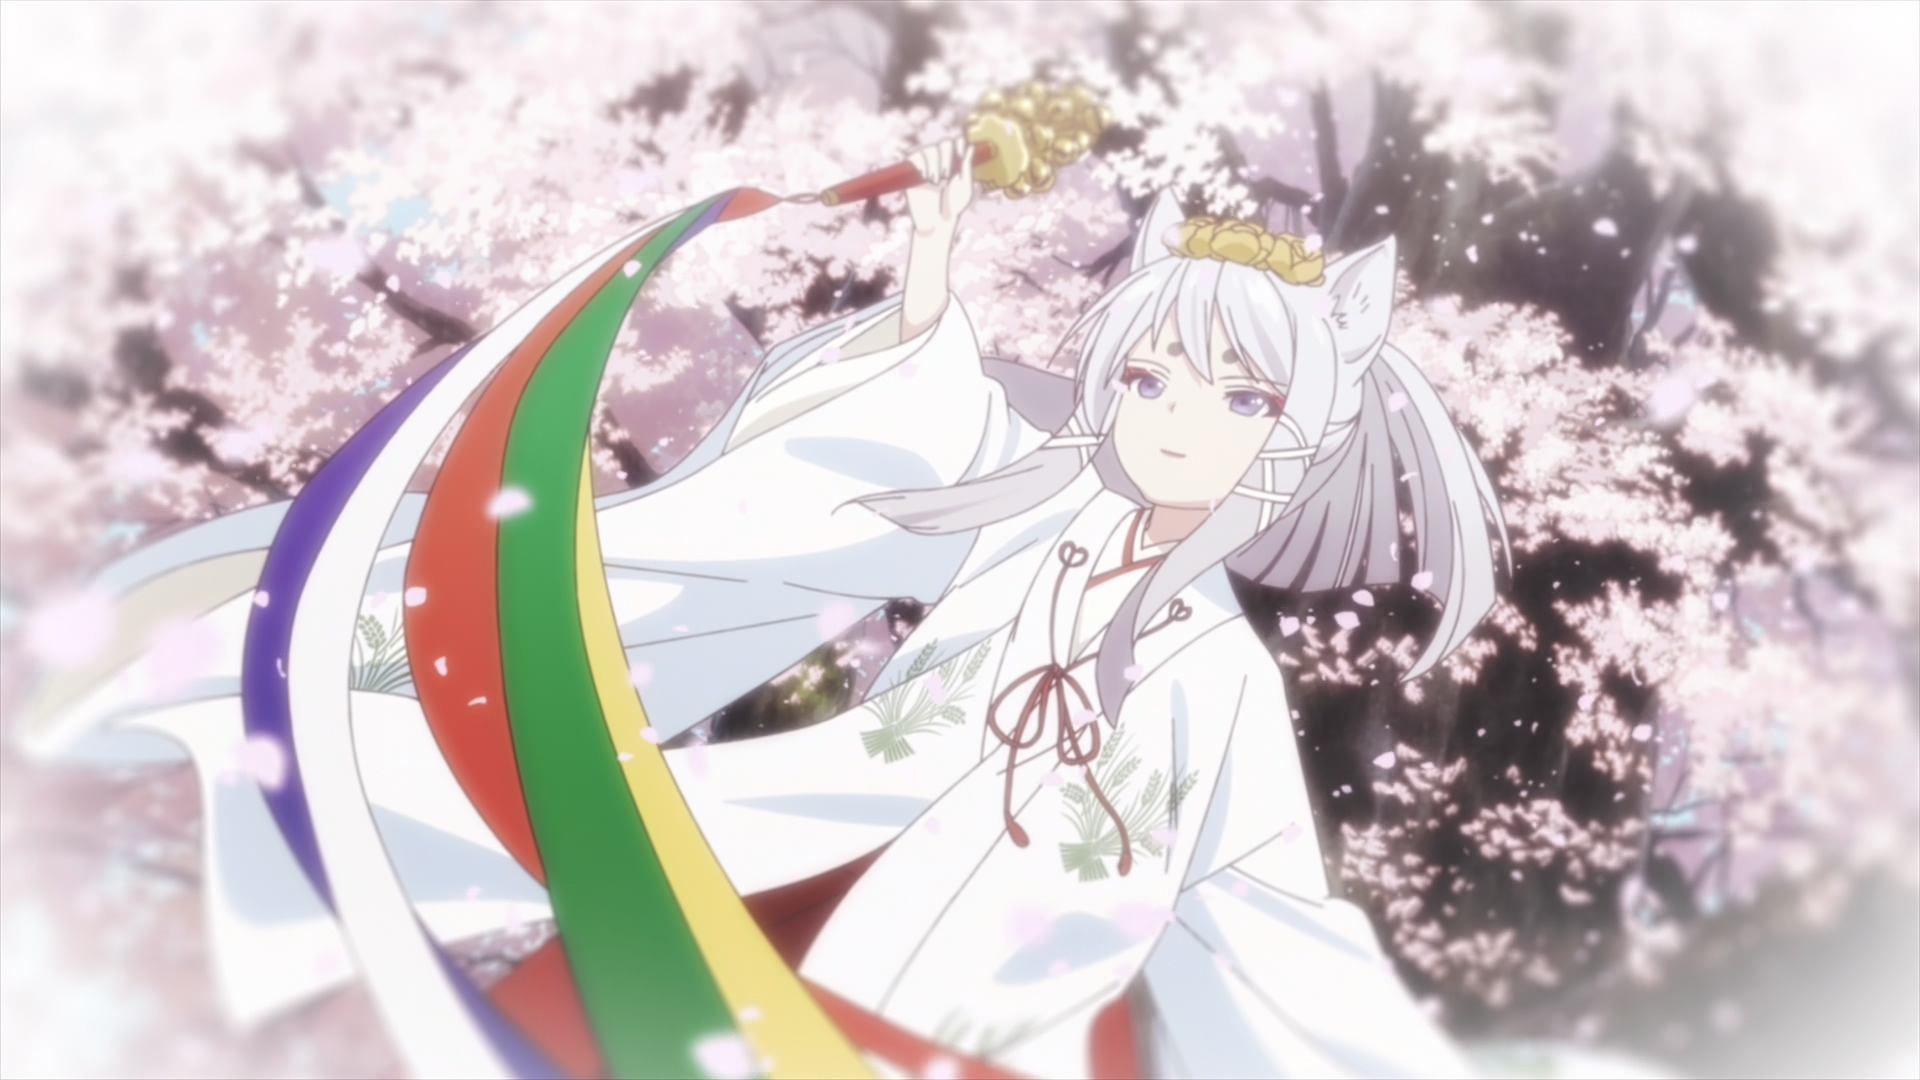柊: (7, 137, 1513, 1080)
